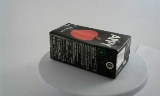appy: (45, 23, 123, 80)
